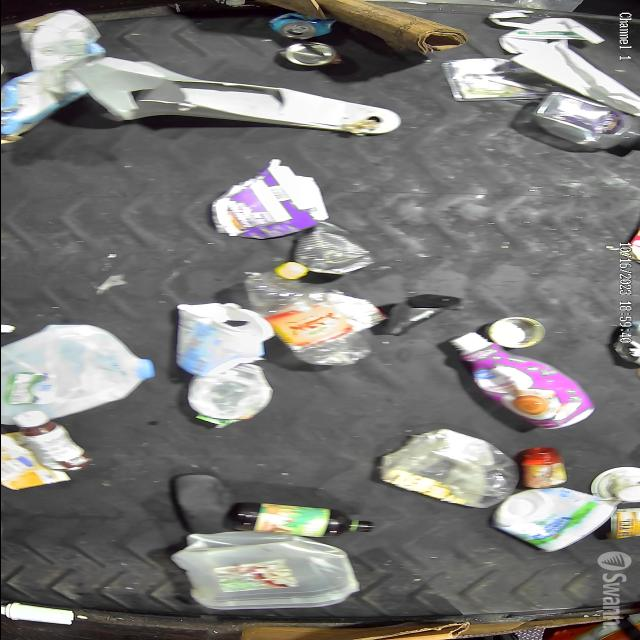can: (292, 230, 372, 274), (484, 316, 546, 348), (268, 13, 332, 40), (278, 42, 338, 66), (603, 507, 640, 539), (612, 324, 640, 366)
milk_jug: (0, 324, 155, 427), (170, 532, 360, 610), (512, 40, 640, 116)
non_white_jug: (446, 332, 594, 431), (208, 160, 328, 240)
plastic_bottle: (242, 262, 370, 366)
